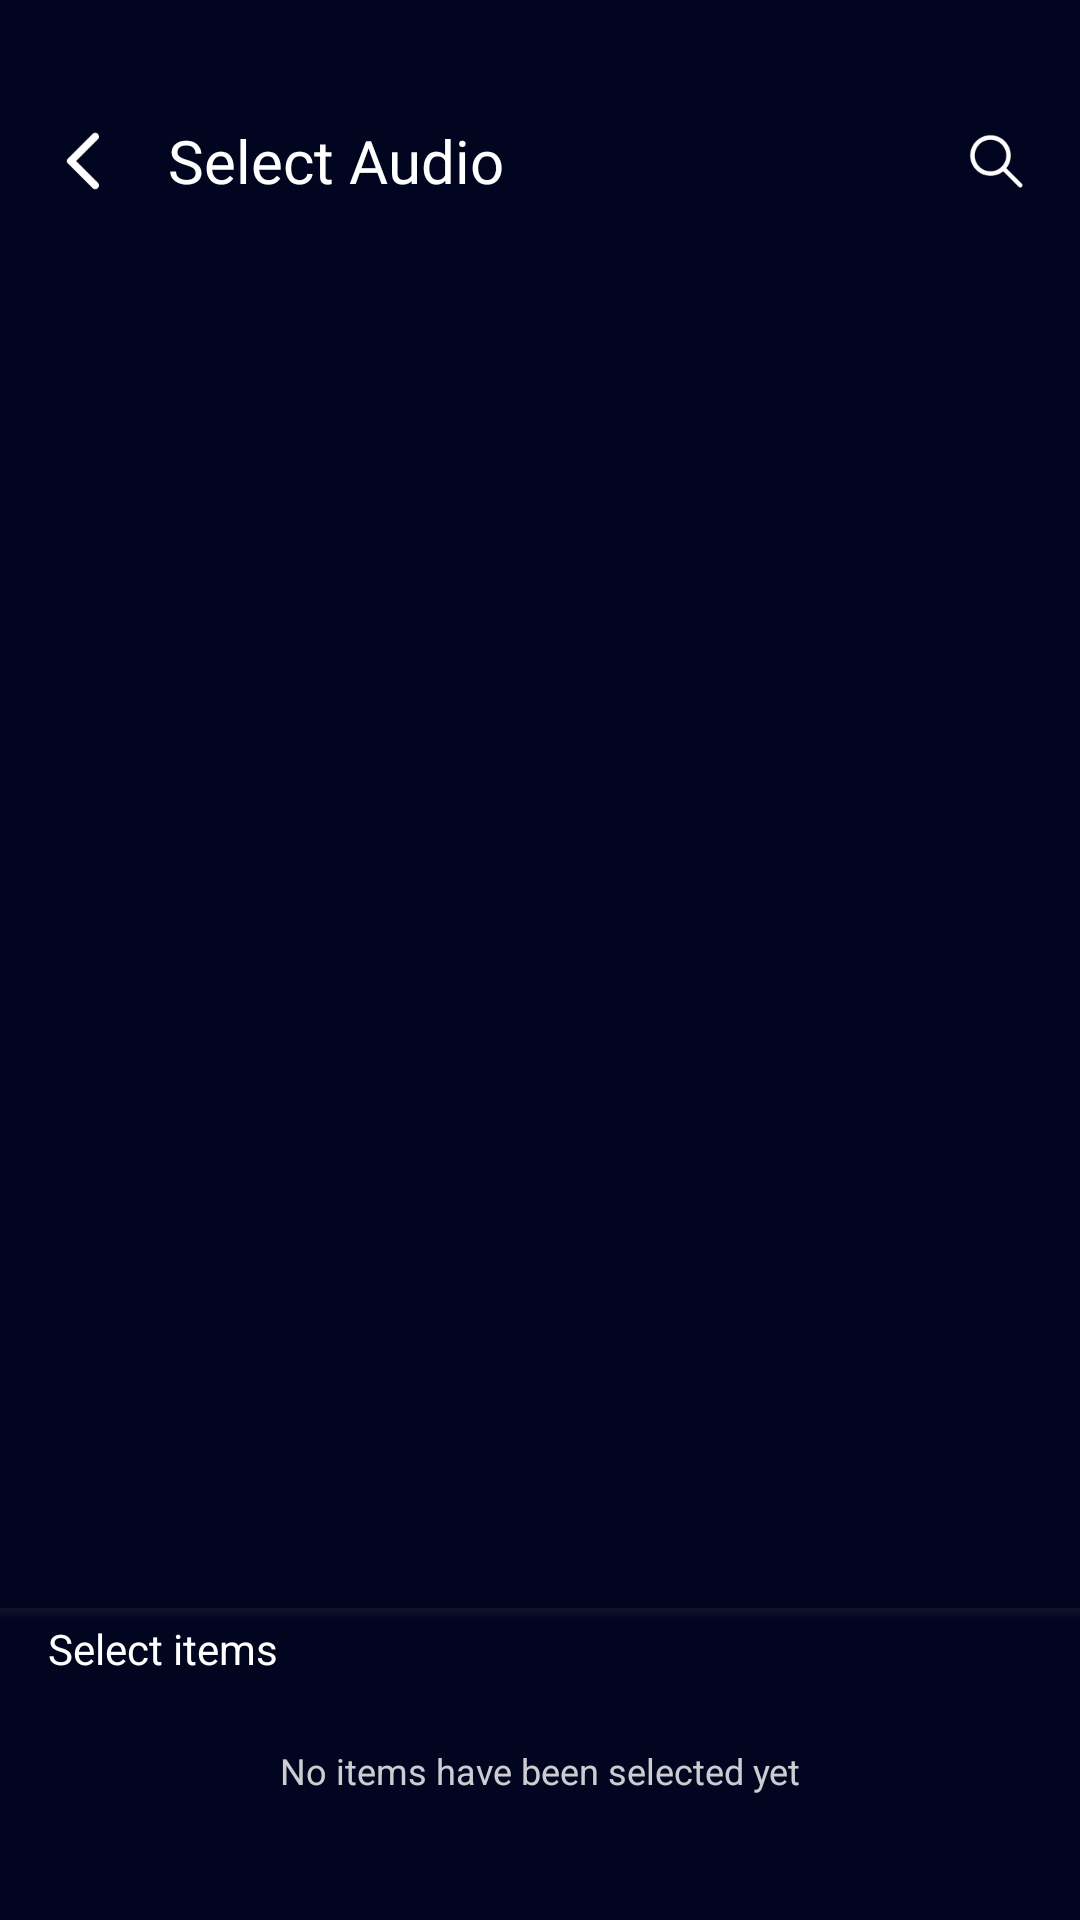

Icons on this 1080×1920 Android screen, each with its box as (x1, y1, x2, y2):
back: (66, 132, 99, 190)
search: (970, 135, 1023, 188)
